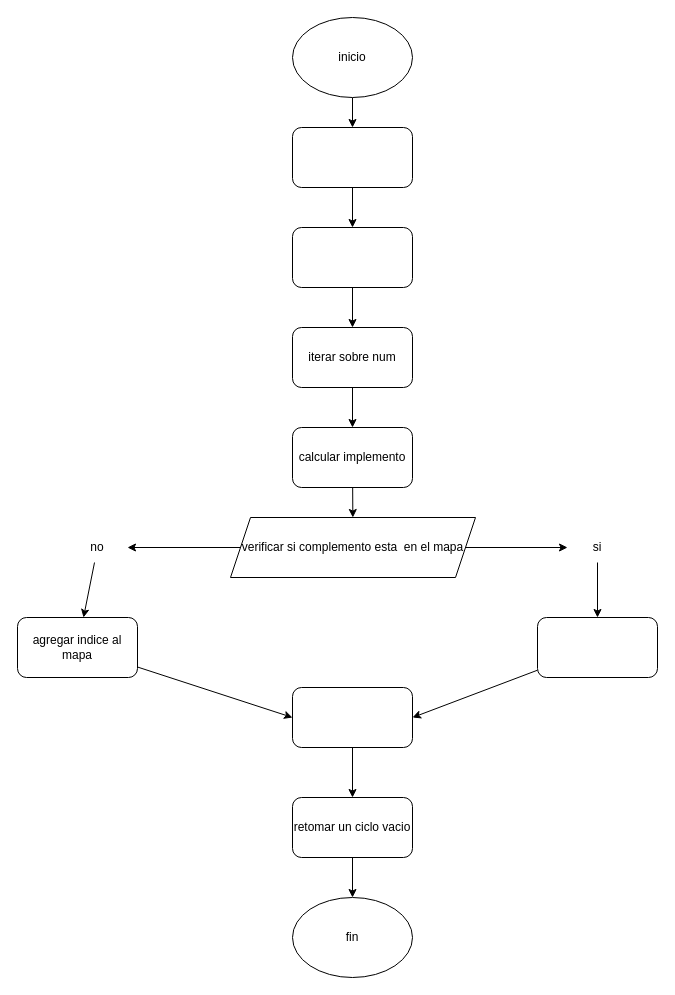
The diagram is 675 pixels wide and 995 high, and some of its shapes have lost their labels. The centre of each missing label's shape, as x and y in pixels:
"devolver indice" belongs at (x=597, y=647).
"fin bucle" belongs at (x=352, y=717).
"iniciar mapa" belongs at (x=352, y=257).
"leer num y objetivos" belongs at (x=352, y=157).
